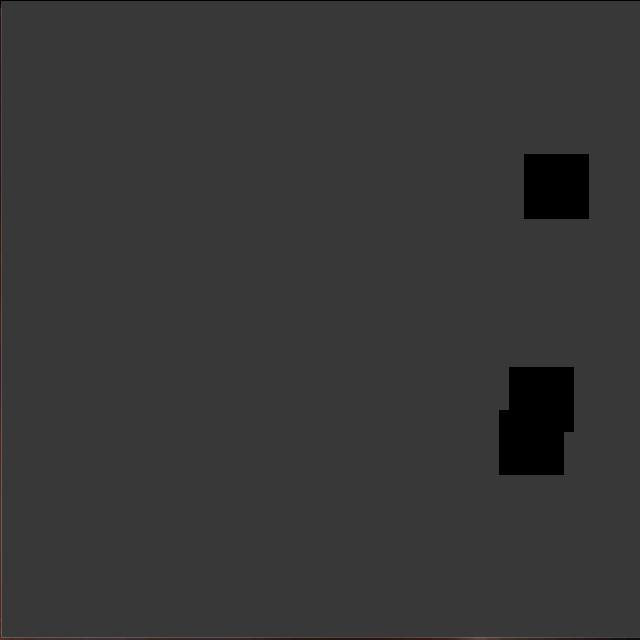smoke: (1, 0, 640, 637)
